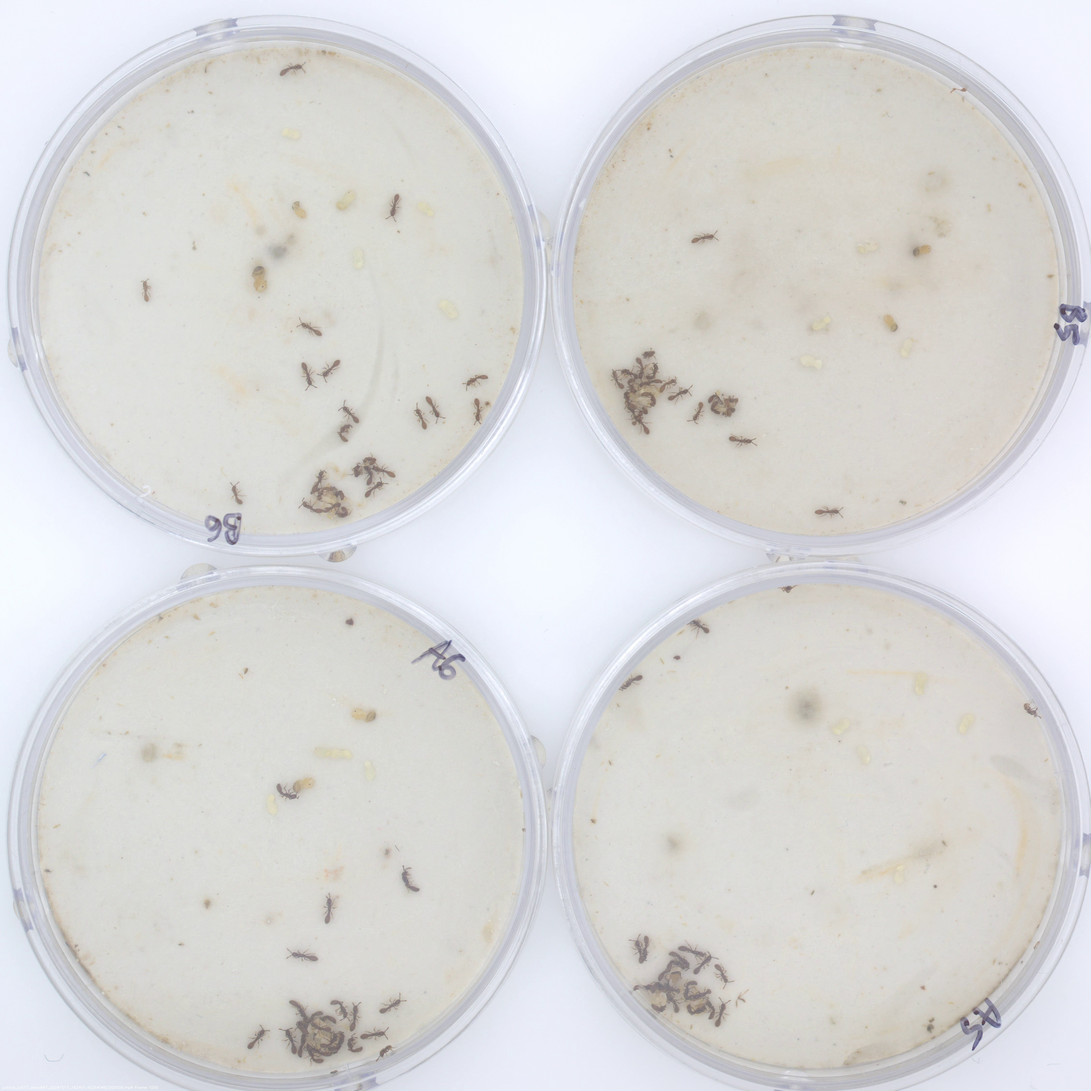brood: (646, 963, 712, 1015), (300, 1014, 344, 1055), (626, 365, 662, 410), (313, 483, 353, 518), (714, 390, 733, 411), (321, 461, 341, 479), (621, 369, 636, 378), (336, 471, 347, 480), (358, 463, 370, 470), (356, 500, 367, 507)
